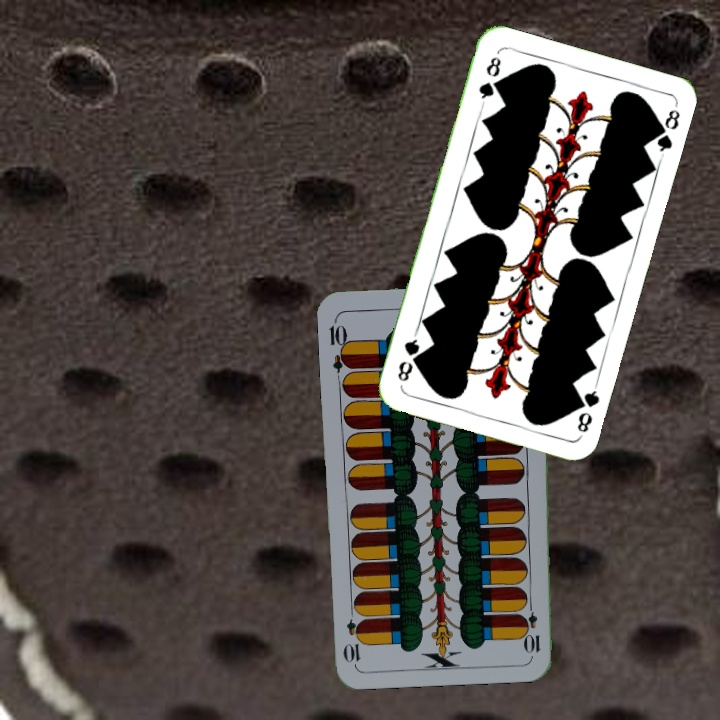E10: (325, 315, 353, 374), (523, 596, 543, 656)
G8: (570, 380, 602, 438), (475, 52, 504, 108)
